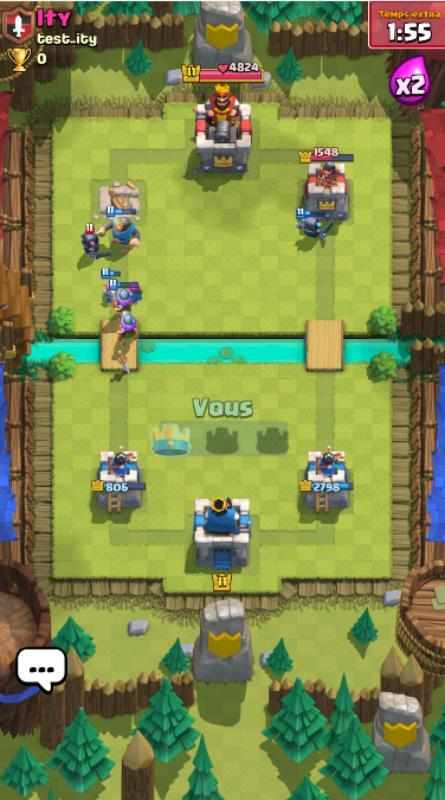archere: (99, 268, 121, 306), (126, 278, 145, 308)
chevalier: (95, 205, 141, 256)
mini_PEKKA: (294, 207, 334, 241), (80, 224, 113, 260)
mousquetaire: (110, 280, 139, 318), (116, 309, 140, 348)
